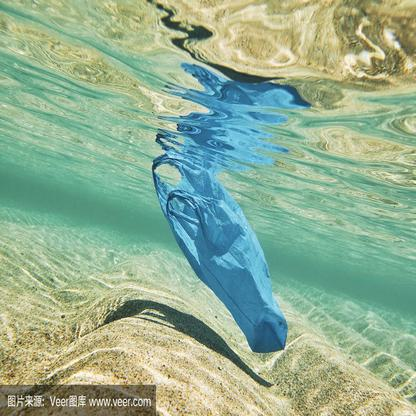plastic bag: (151, 154, 288, 352)
